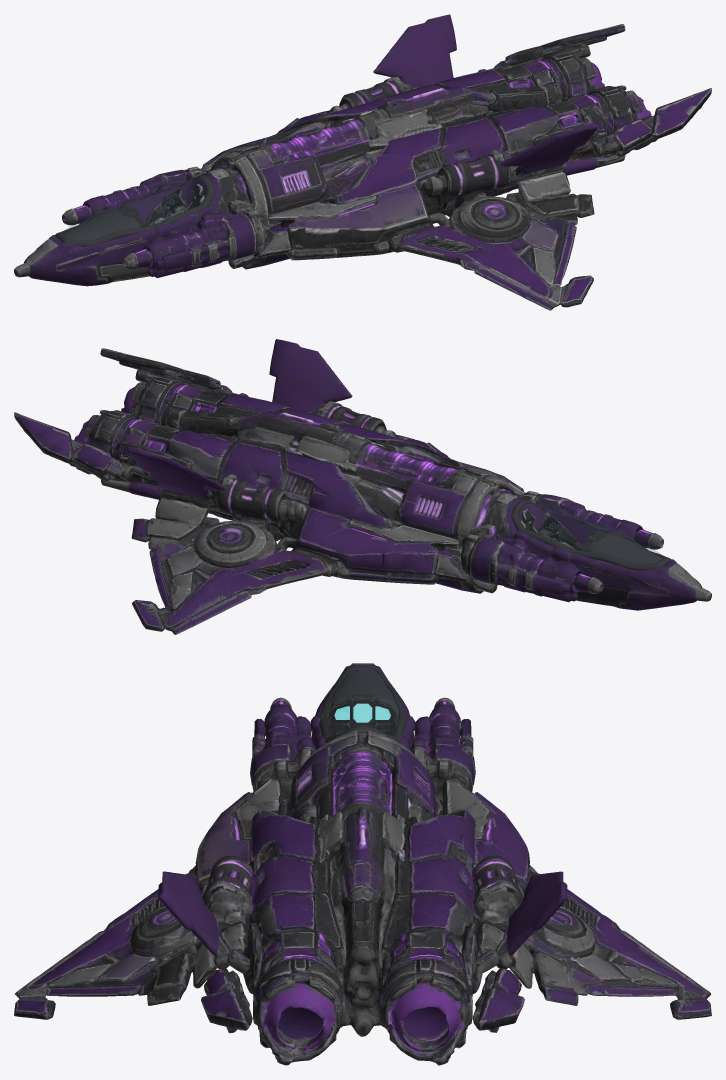
Rendered from vortex.glb.
3 renders of one model, top to bottom at view 1: azimuth 30°, elevation 25°; view 2: azimuth 150°, elevation 25°; view 3: azimuth 270°, elevation 25°, orthographic. The views are drawn at different scales.
Parts seen in each view (by area): view 1: vortex_game_hull, vortex_game_glass, vortex_game_canopy_frame, vortex_game_hood, vortex_game_cockpit, vortex_game_tub; view 2: vortex_game_hull, vortex_game_glass, vortex_game_canopy_frame, vortex_game_hood, vortex_game_cockpit, vortex_game_tub; view 3: vortex_game_hull, vortex_game_glass, vortex_game_console, vortex_game_hood, vortex_game_canopy_frame.
Part boxes in pixels (bbox=[...]): vortex_game_hull: bbox=[14, 14, 711, 310]; vortex_game_glass: bbox=[61, 177, 207, 240]; vortex_game_canopy_frame: bbox=[55, 175, 214, 246]; vortex_game_hood: bbox=[63, 208, 140, 240]; vortex_game_cockpit: bbox=[144, 184, 204, 226]; vortex_game_tub: bbox=[62, 178, 207, 233]; vortex_game_hull: bbox=[14, 339, 711, 634]; vortex_game_glass: bbox=[517, 502, 664, 563]; vortex_game_canopy_frame: bbox=[511, 499, 670, 570]; vortex_game_hood: bbox=[586, 532, 662, 563]; vortex_game_cockpit: bbox=[520, 509, 580, 550]; vortex_game_tub: bbox=[518, 503, 601, 546]; vortex_game_hull: bbox=[14, 663, 711, 1065]; vortex_game_glass: bbox=[324, 666, 401, 735]; vortex_game_console: bbox=[326, 695, 398, 735]; vortex_game_hood: bbox=[326, 669, 398, 720]; vortex_game_canopy_frame: bbox=[318, 665, 406, 742].
Size of the model in its own units: 1.9 by 0.3489 by 1.3.
8 materials, 3 textured.
